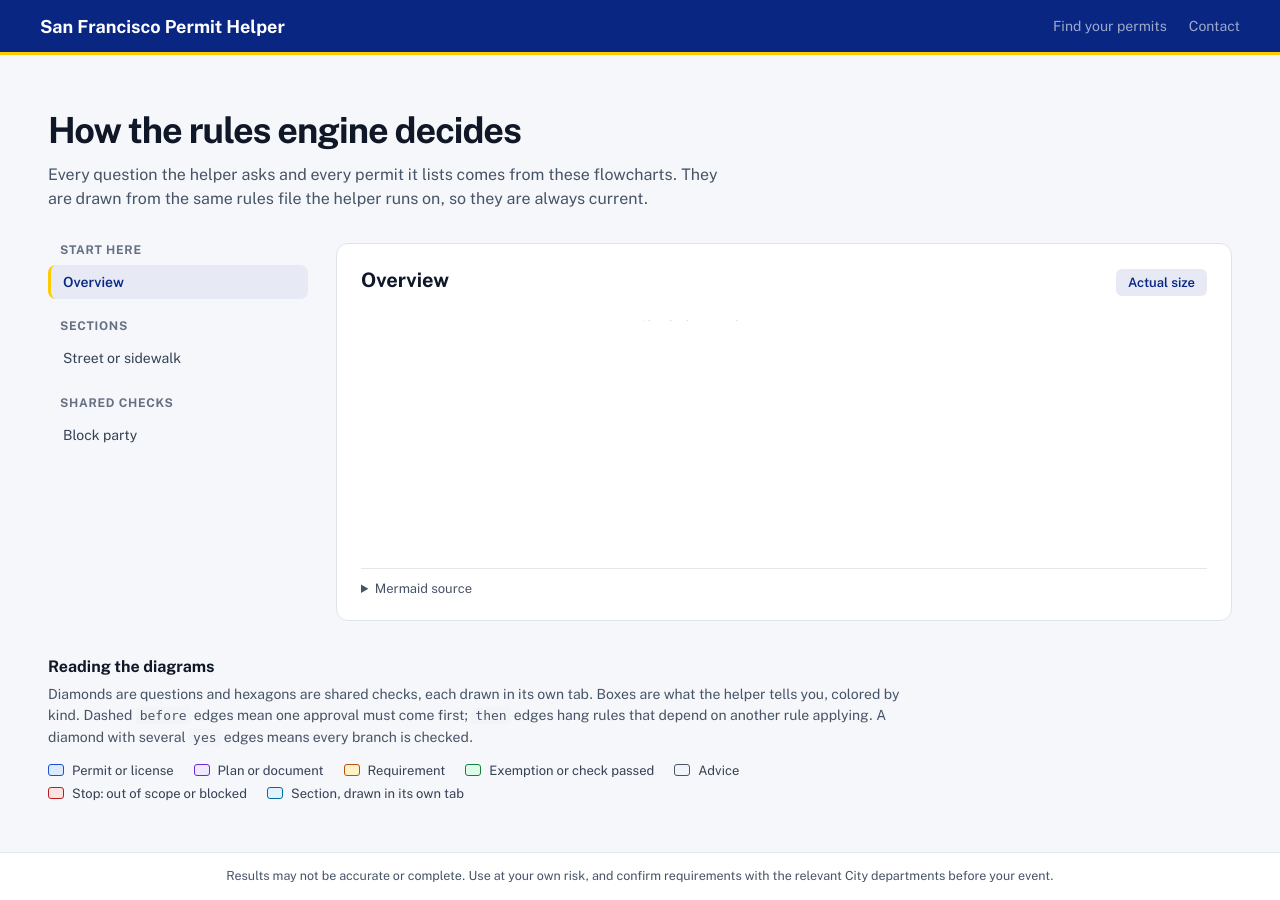
Test: RulesPage › links back to the helper
This screenshot has width=1280, height=900.
Click the link "Find your permits": [1110, 26] box [1053, 18, 1167, 34]
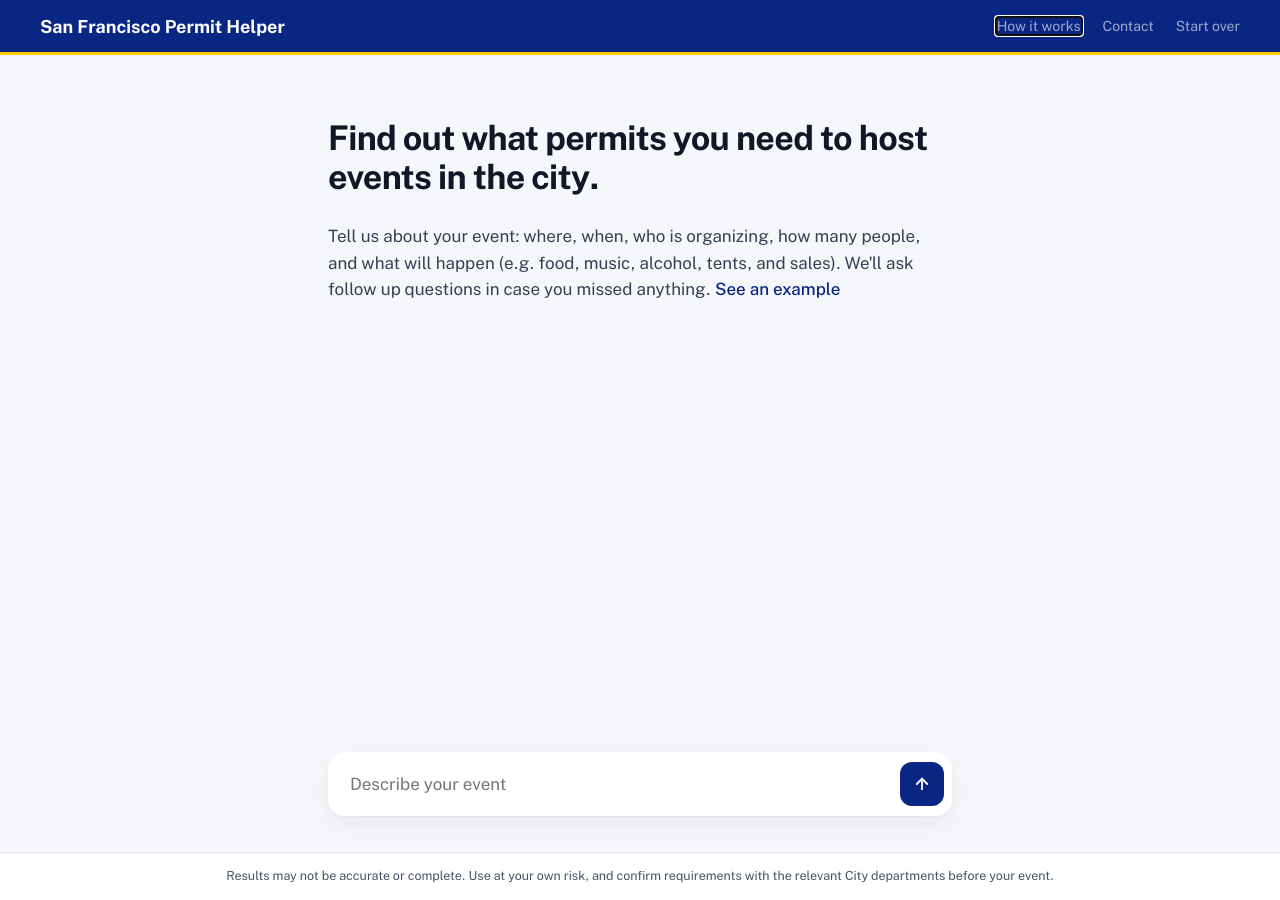
Expected: the text box named "Message" is shown, [350, 760, 890, 808]
